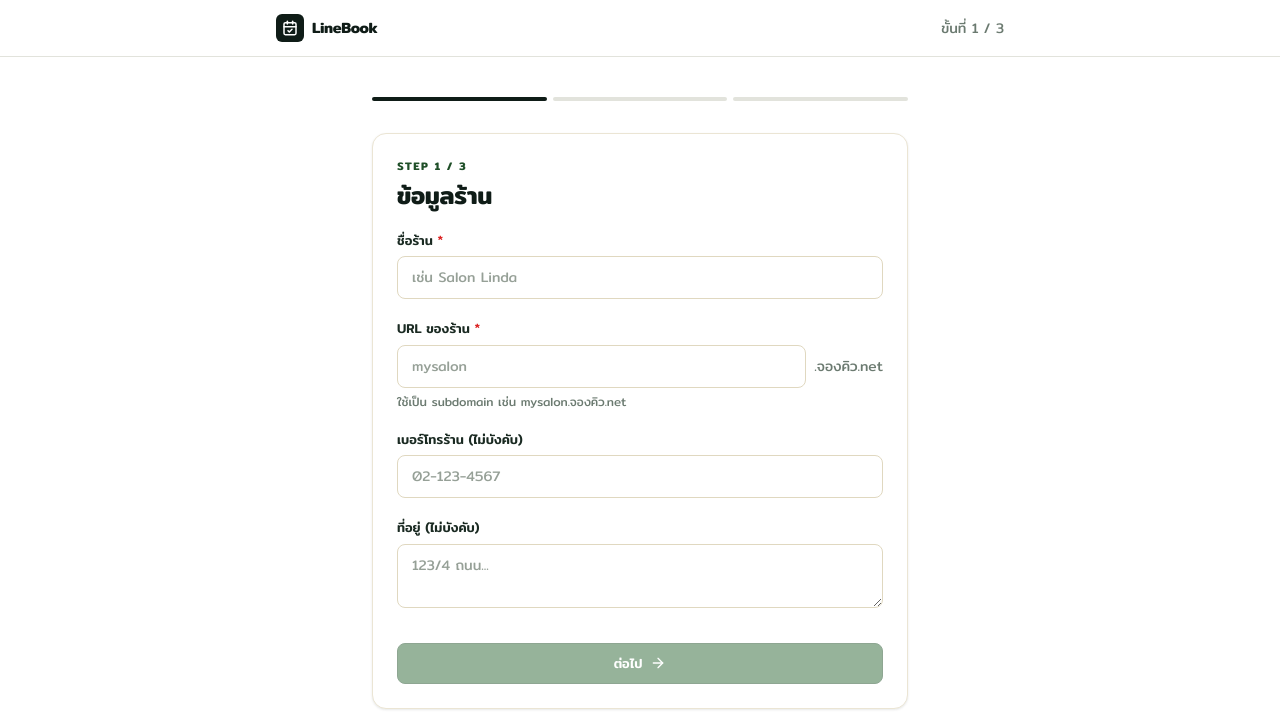
Test: SignupPage › validates slug via fetch and enables Next when both name and slug are valid
Type "Test Shop" into the field with placeholder "เช่น Salon Linda".
click(640, 278); type("Test Shop")  # box [397,256,883,299]
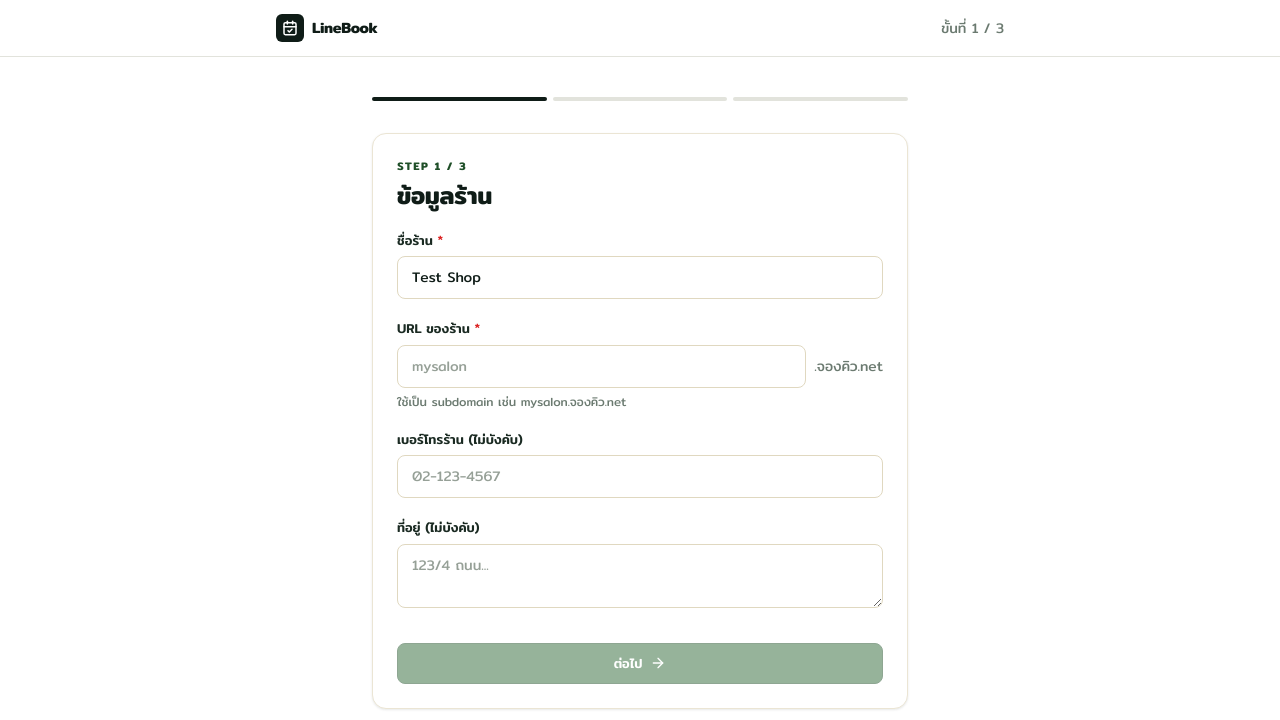
Type "test-shop" into the field with placeholder "mysalon".
click(602, 366); type("test-shop")  # box [397,344,806,388]
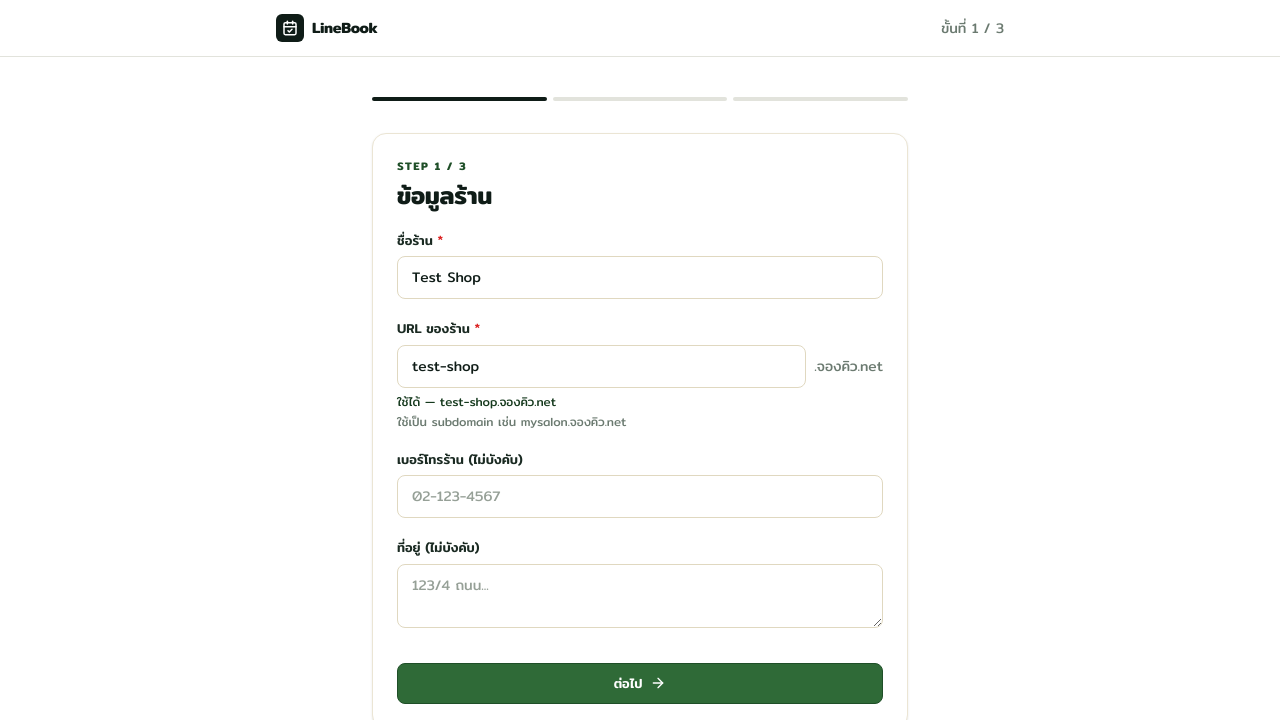
Expected: the button "ต่อไป" is enabled, [397,662,883,704]
